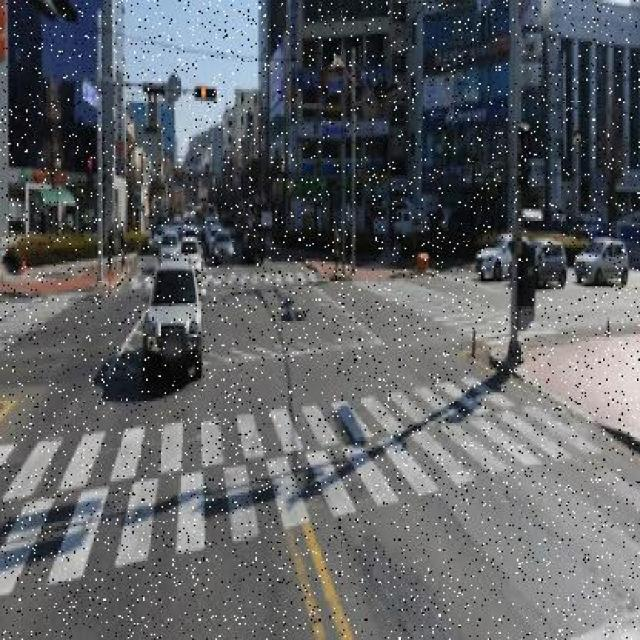crosswalk: (2, 409, 620, 594), (4, 375, 557, 501), (358, 280, 566, 346), (208, 272, 330, 297)
